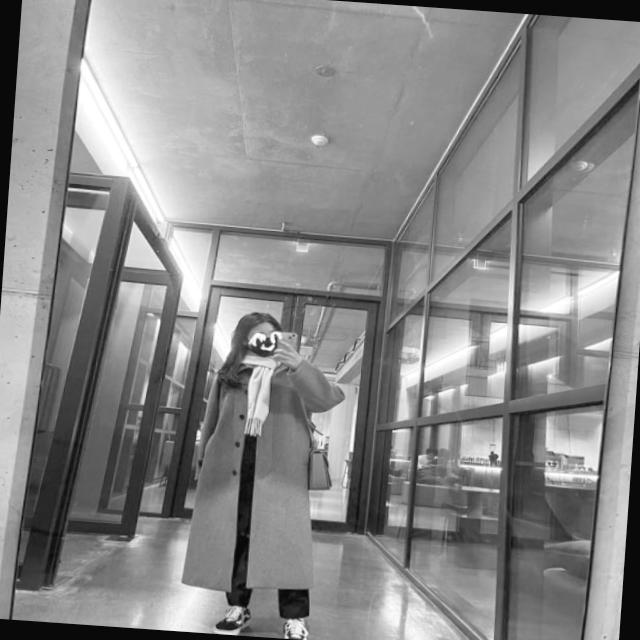coat: (182, 353, 348, 595)
slacks: (221, 429, 322, 620)
